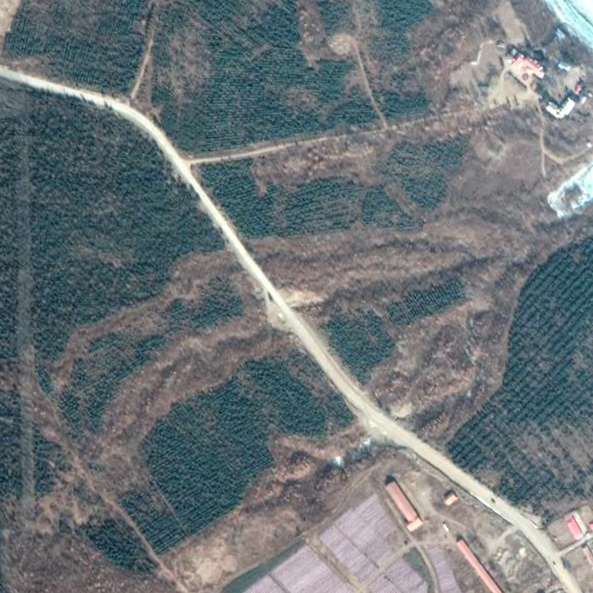slope: (278, 287, 334, 335), (327, 25, 356, 59)
